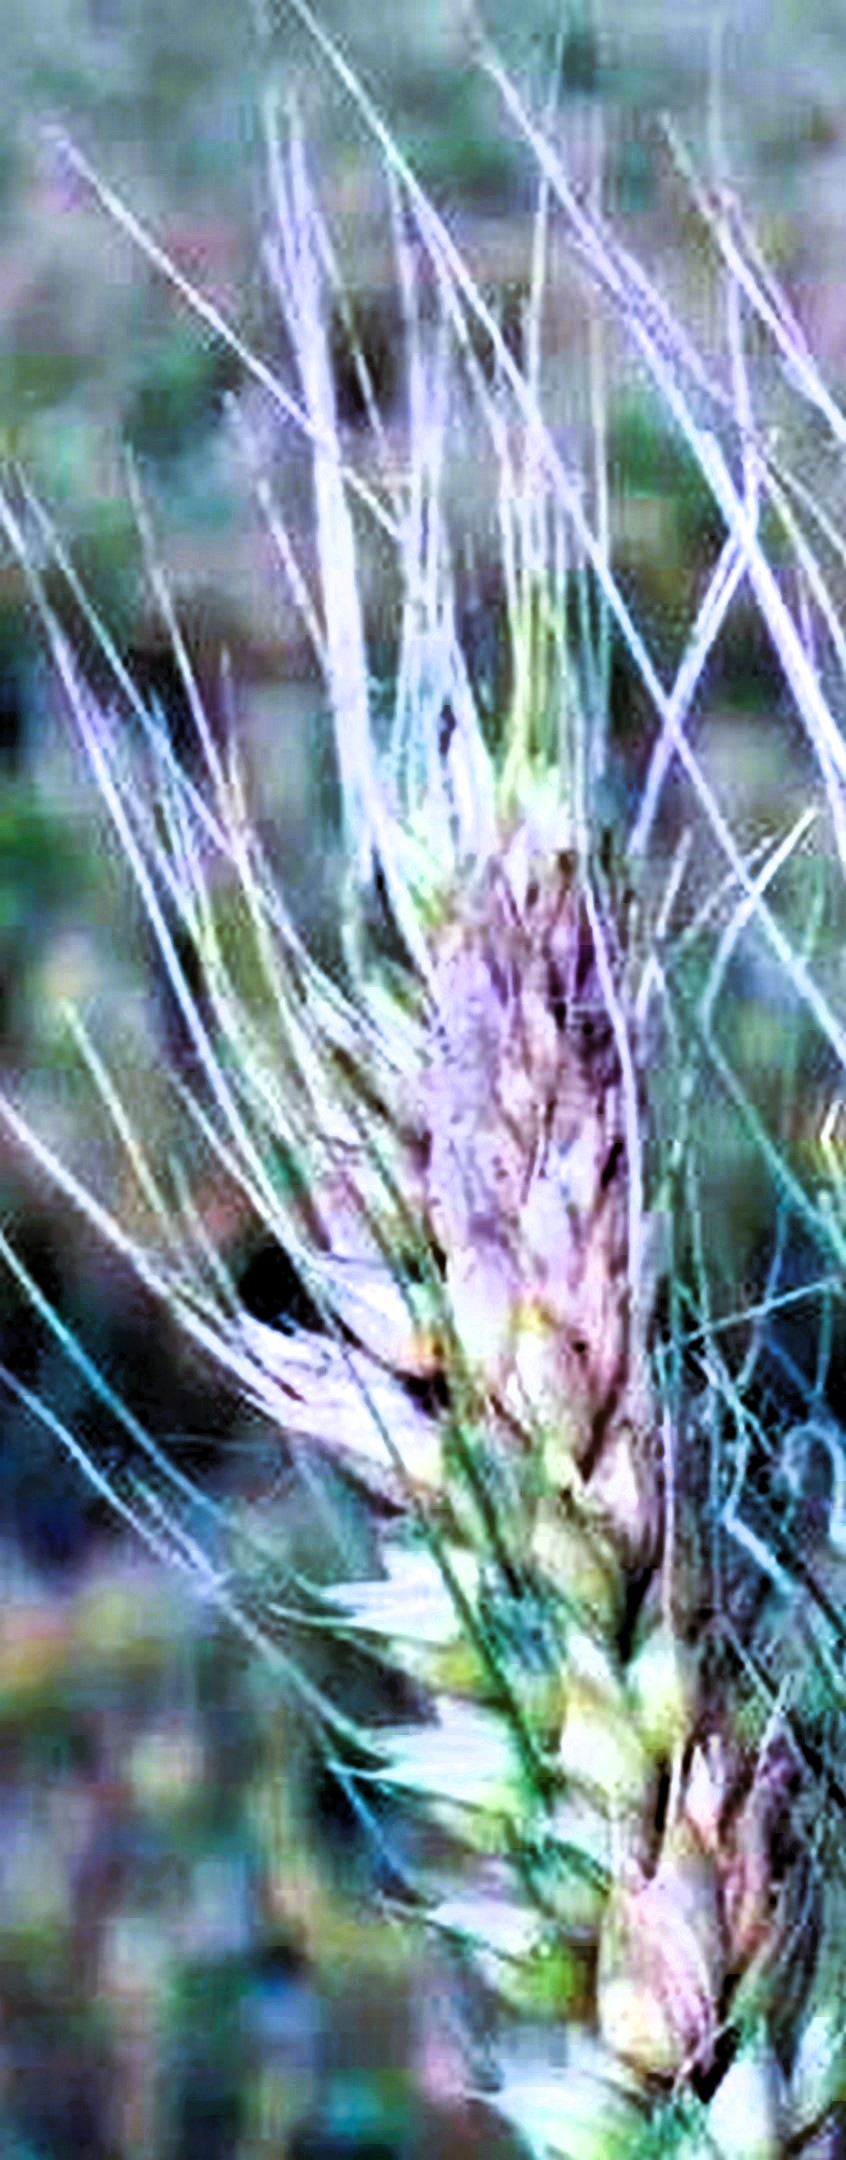Wheat scab: (169, 689, 790, 2040)
